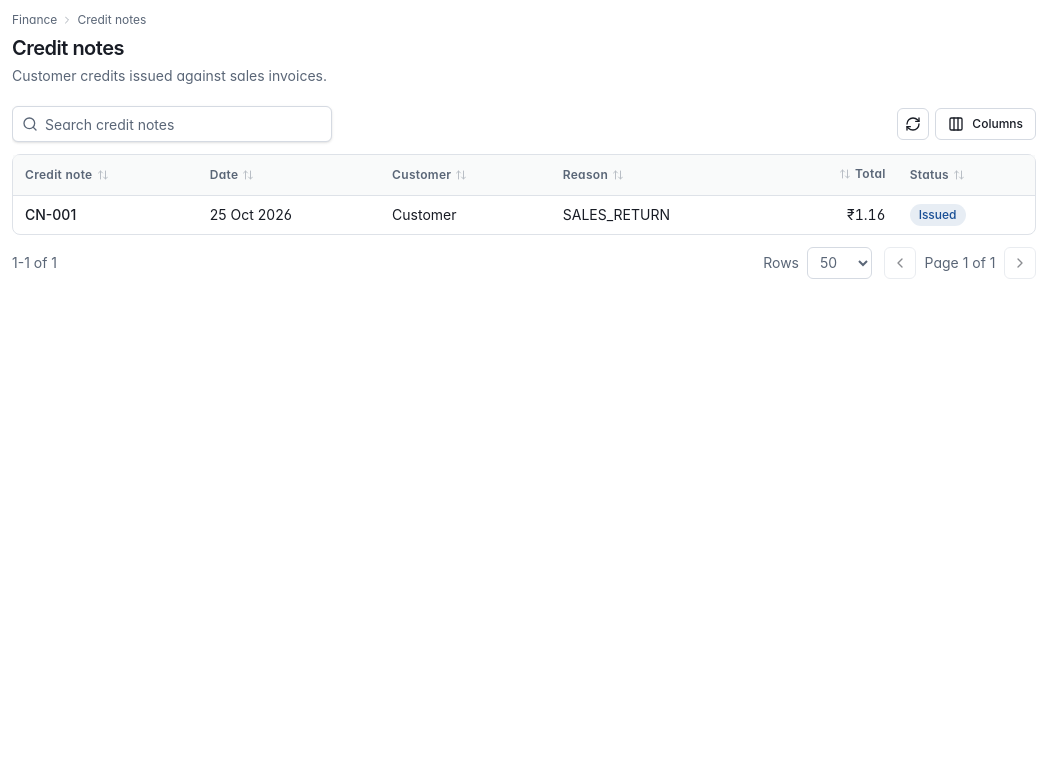
Test: credit note settlement breakdown › shows a nonzero rounding residual without changing the recorded tax (0.00)
Click the button "CN-001": click(51, 214) [25, 204, 76, 224]
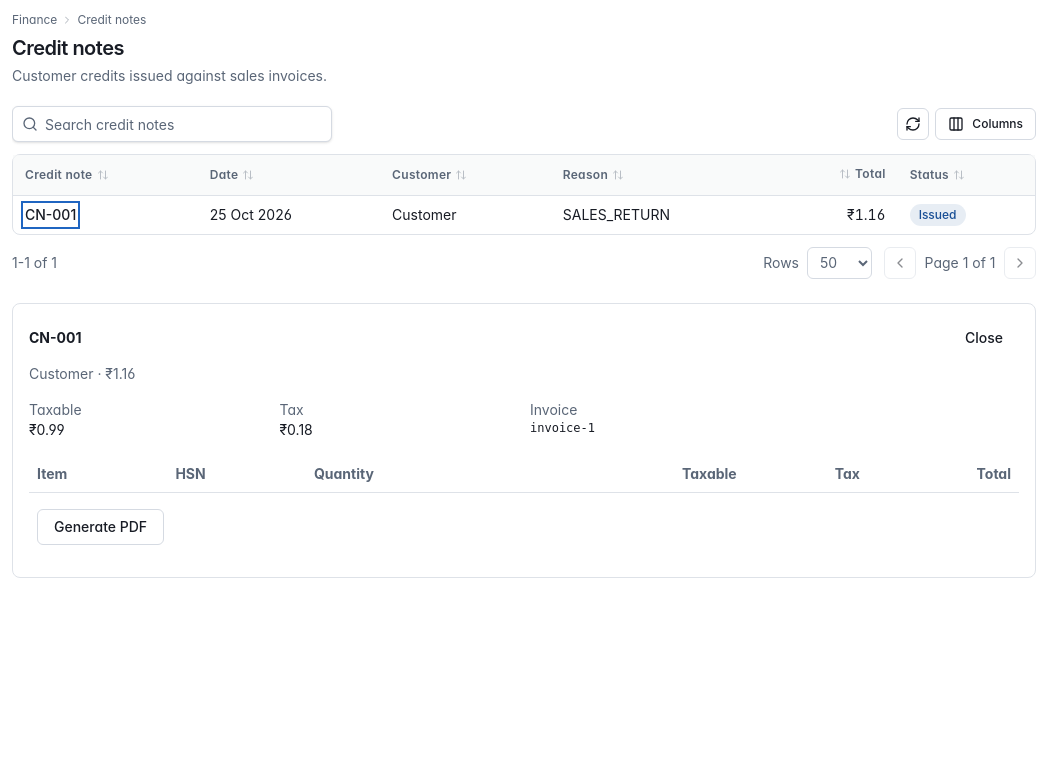
expect the text "Taxable" is shown: met, box [29, 400, 82, 418]
expect the text "₹0.18" is shown: met, box [280, 420, 313, 438]
